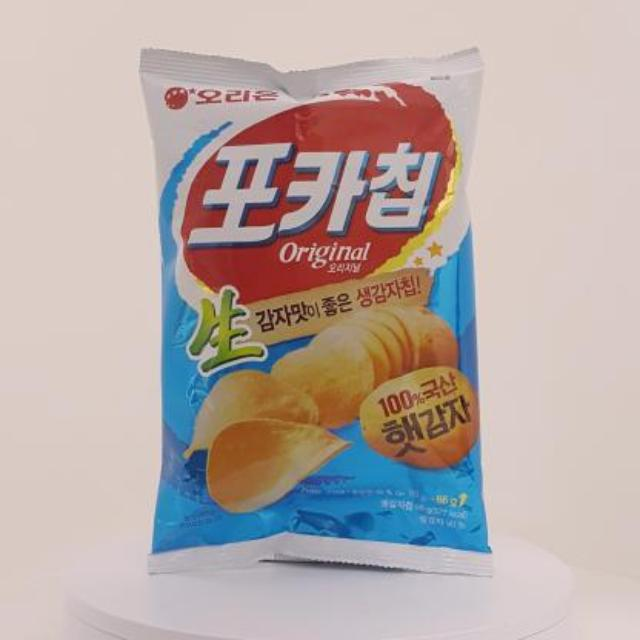snack_bag: (126, 30, 530, 588)
